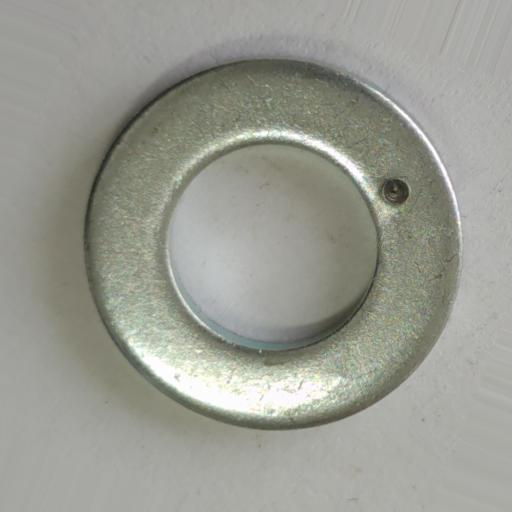circular_cavity: (378, 177, 410, 205)
